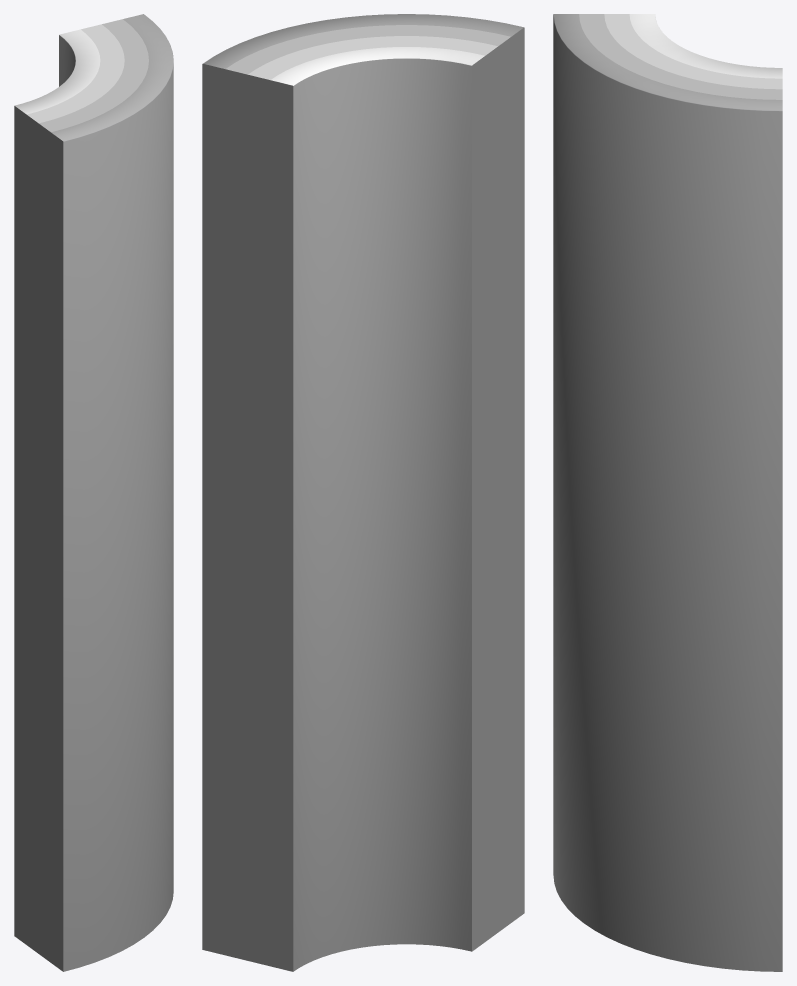
The model's file is road_turn_15_right.FBX.
3 renders of one model, left to right at view 1: azimuth 30°, elevation 25°; view 2: azimuth 150°, elevation 25°; view 3: azimuth 270°, elevation 25°, orthographic. The views are drawn at different scales.
Parts seen in each view (by area): view 1: road_turn_15_right; view 2: road_turn_15_right; view 3: road_turn_15_right.
Part boxes in pixels (x1=…): road_turn_15_right: x1=14, y1=14, x2=173, y2=971; road_turn_15_right: x1=202, y1=14, x2=524, y2=971; road_turn_15_right: x1=553, y1=14, x2=782, y2=971.
Bounding box in the file's own units: 27 × 112 × 27.
1 material, 1 textured.
